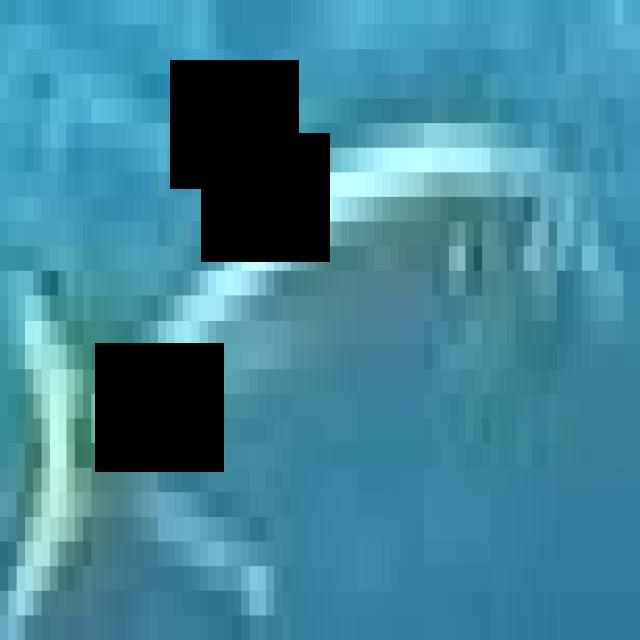fish: (8, 24, 639, 640)
